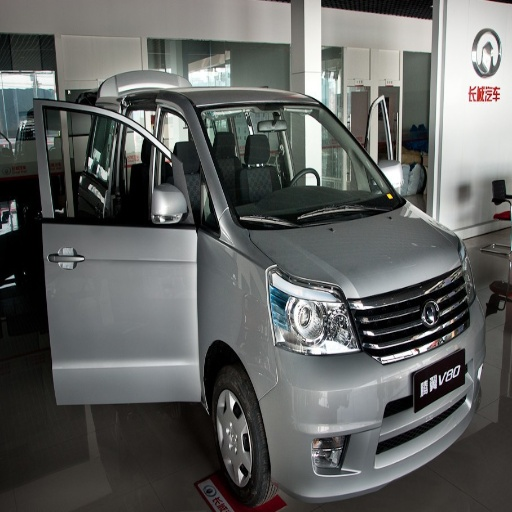front_bumper: (252, 315, 482, 501)
front_right_door: (67, 107, 202, 378)
front_right_light: (268, 269, 357, 355)
hood: (245, 206, 467, 351)
